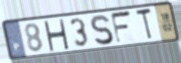3: (69, 17, 90, 48)
8: (24, 22, 45, 53)
F: (109, 9, 133, 46)
H: (42, 18, 70, 52)
S: (89, 14, 115, 47)
T: (135, 7, 154, 42)
